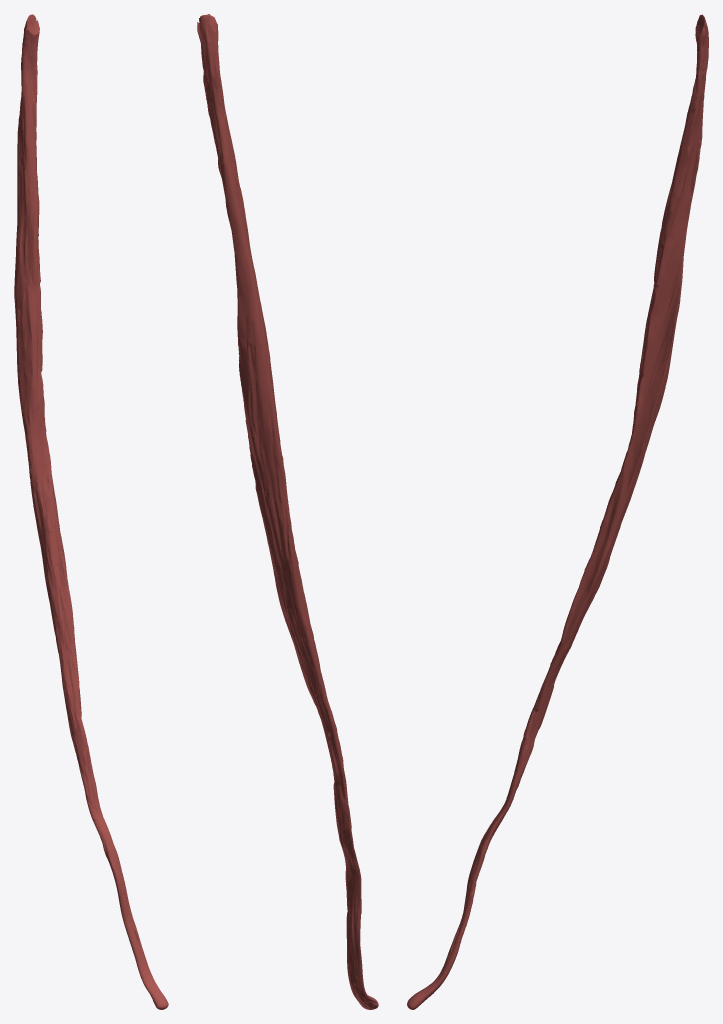
File: FMA38504.glb
The picture shows the model from 3 angles, left to right: view 1: azimuth 30°, elevation 25°; view 2: azimuth 150°, elevation 25°; view 3: azimuth 270°, elevation 25°; orthographic projection. The views are drawn at different scales.
Visible parts, largest first — view 1: FMA38504; view 2: FMA38504; view 3: FMA38504.
Part boxes in pixels (x1=…): FMA38504: x1=14, y1=14, x2=168, y2=1009; FMA38504: x1=197, y1=14, x2=378, y2=1009; FMA38504: x1=407, y1=14, x2=708, y2=1009.
Size of the model in its own units: 0.0163 by 0.3255 by 0.0896.
